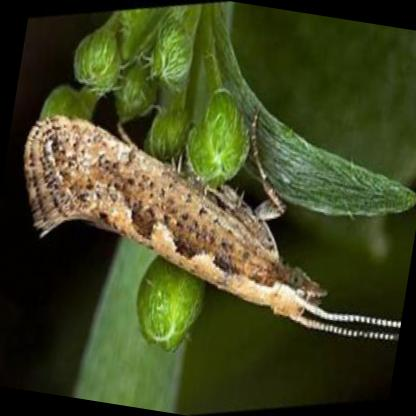plutella: (22, 105, 401, 347)
